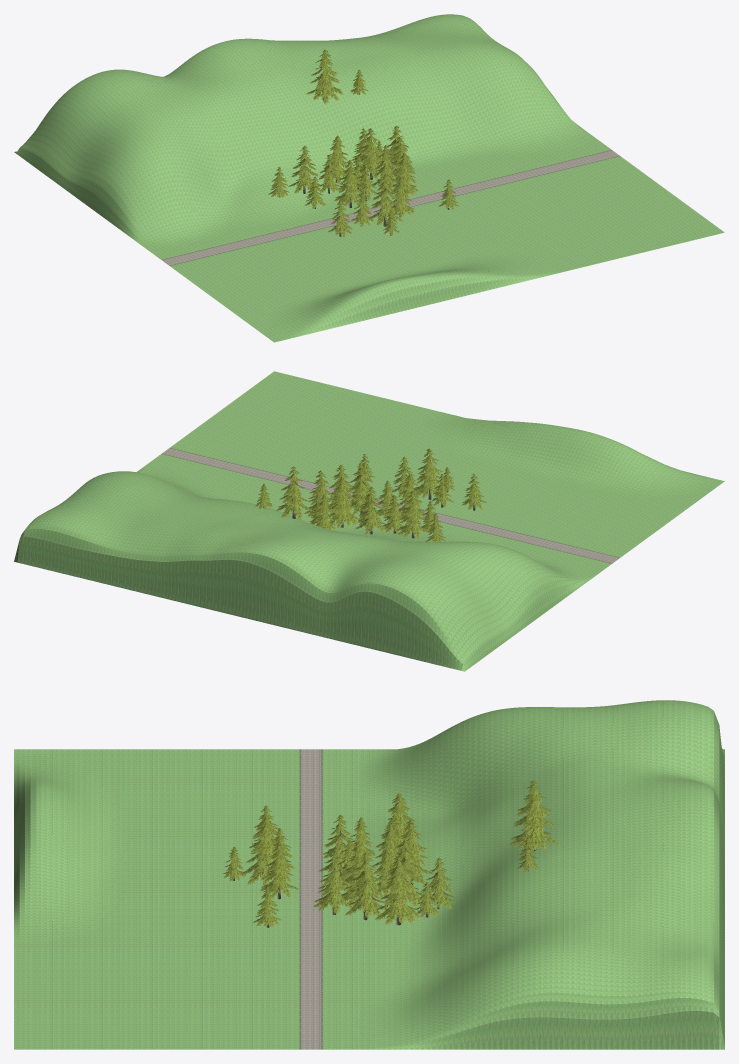
Rendered from TestTerrainQuad.dae.
The picture shows the model from 3 angles, top to bottom: view 1: azimuth 30°, elevation 25°; view 2: azimuth 150°, elevation 25°; view 3: azimuth 270°, elevation 25°; orthographic projection. The views are drawn at different scales.
Visible parts, largest first — view 1: Grid, Tree.018, Tree.017, Tree.013, Tree.006, Tree.008, Tree, Tree.003, Tree.021; view 2: Grid, Tree.008, Tree.018, Tree.017, Tree.006, Tree.003, Tree.004, Tree, Tree.013; view 3: Grid, Tree.018, Tree.004, Tree.009, Tree.017, Tree.021, Tree.023, Tree.008, Tree.006, Tree.003, Tree.013, Tree.005 (+2 smaller).
Boxes of the visible parts, bbox=[...] form: Grid: bbox=[14, 14, 724, 342]; Tree.018: bbox=[306, 49, 343, 104]; Tree.017: bbox=[369, 174, 403, 226]; Tree.013: bbox=[334, 160, 367, 207]; Tree.006: bbox=[288, 146, 321, 193]; Tree.008: bbox=[356, 128, 386, 179]; Tree: bbox=[370, 145, 398, 193]; Tree.003: bbox=[321, 135, 352, 183]; Tree.021: bbox=[390, 152, 419, 196]; Grid: bbox=[14, 371, 724, 671]; Tree.008: bbox=[329, 476, 359, 528]; Tree.018: bbox=[276, 466, 313, 519]; Tree.017: bbox=[413, 448, 448, 499]; Tree.006: bbox=[396, 491, 429, 538]; Tree.003: bbox=[355, 486, 387, 534]; Tree.004: bbox=[304, 470, 336, 517]; Tree: bbox=[348, 468, 375, 514]; Tree.013: bbox=[397, 474, 425, 520]; Grid: bbox=[14, 700, 724, 1049]; Tree.018: bbox=[508, 780, 559, 852]; Tree.004: bbox=[374, 857, 421, 925]; Tree.009: bbox=[344, 852, 386, 920]; Tree.017: bbox=[240, 815, 290, 885]; Tree.021: bbox=[313, 854, 352, 914]; Tree.023: bbox=[260, 842, 299, 899]; Tree.008: bbox=[381, 839, 425, 907]; Tree.006: bbox=[374, 793, 419, 856]; Tree.003: bbox=[394, 820, 434, 884]; Tree.013: bbox=[318, 814, 356, 876]; Tree.005: bbox=[426, 857, 455, 909].
Size of the model in its own units: 256 by 256 by 51.62.
